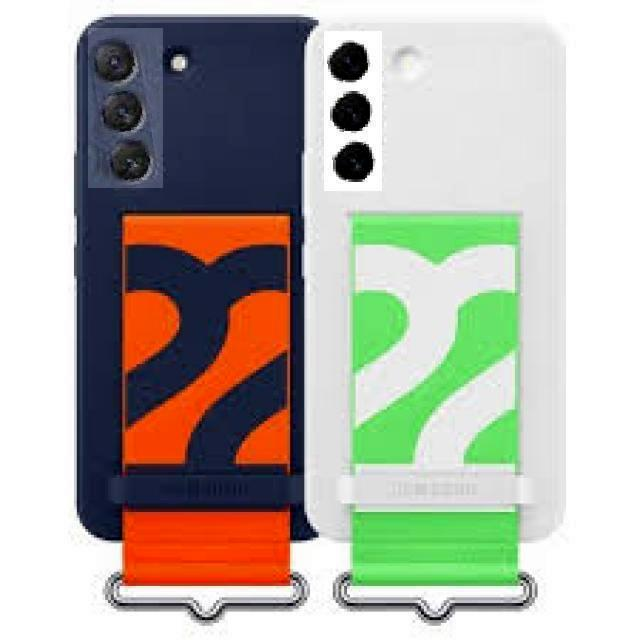lens_back: (315, 136, 389, 198), (87, 85, 155, 139), (97, 141, 163, 193), (321, 86, 387, 138), (84, 37, 141, 92), (324, 38, 372, 88)
